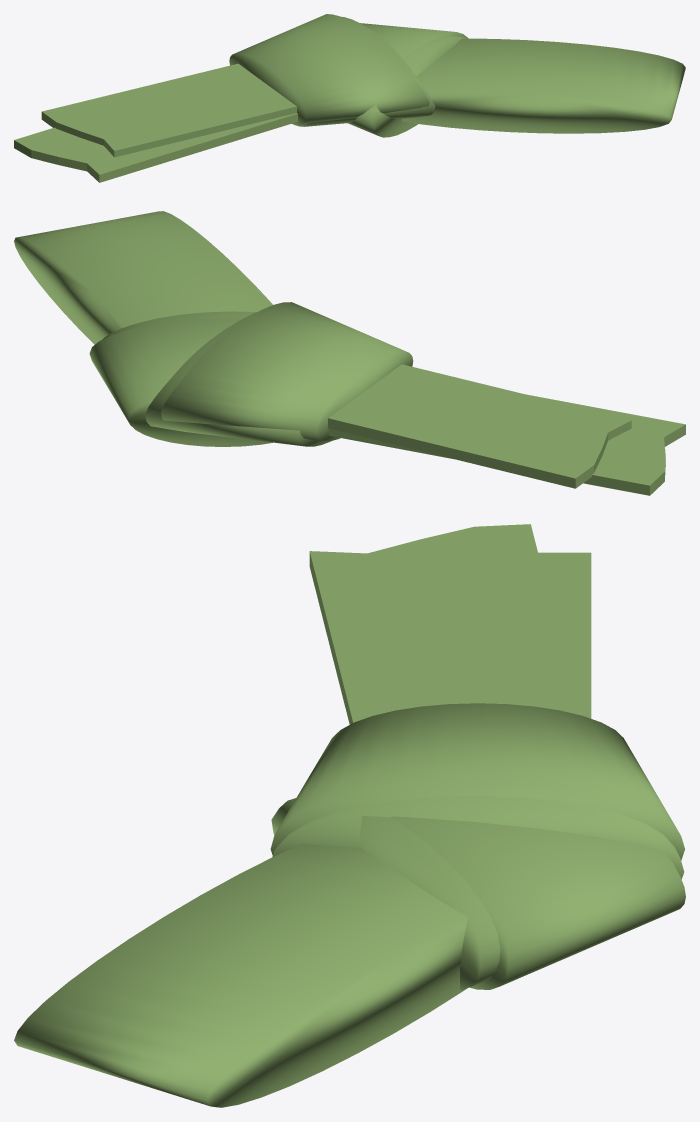
File: pandanleaf2.fbx
3 views of the same model, one above another, from view 1: azimuth 30°, elevation 25°; view 2: azimuth 150°, elevation 25°; view 3: azimuth 270°, elevation 25° (orthographic). The views are drawn at different scales.
Visible parts, largest first — view 1: Cylinder.015, Cylinder.017; view 2: Cylinder.015, Cylinder.017; view 3: Cylinder.015, Cylinder.017.
Part boxes in pixels (box(x1,y1,x2,y2)): Cylinder.015: box(14, 14, 468, 182); Cylinder.017: box(402, 38, 685, 133); Cylinder.015: box(89, 302, 685, 495); Cylinder.017: box(14, 211, 272, 344); Cylinder.015: box(270, 524, 685, 989); Cylinder.017: box(14, 844, 467, 1107).
Size of the model in its own units: 181 by 21.7 by 92.33.
